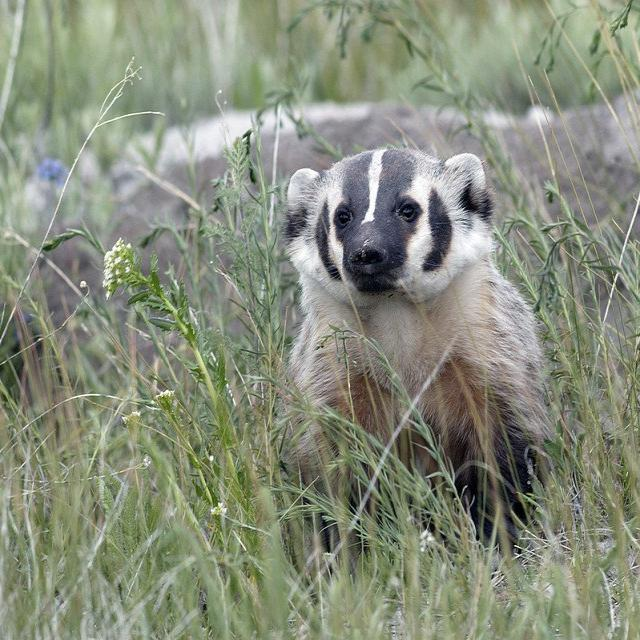badger: (284, 148, 552, 551), (292, 408, 339, 489)
